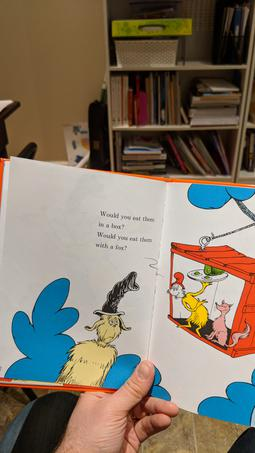text block: (90, 201, 158, 261)
